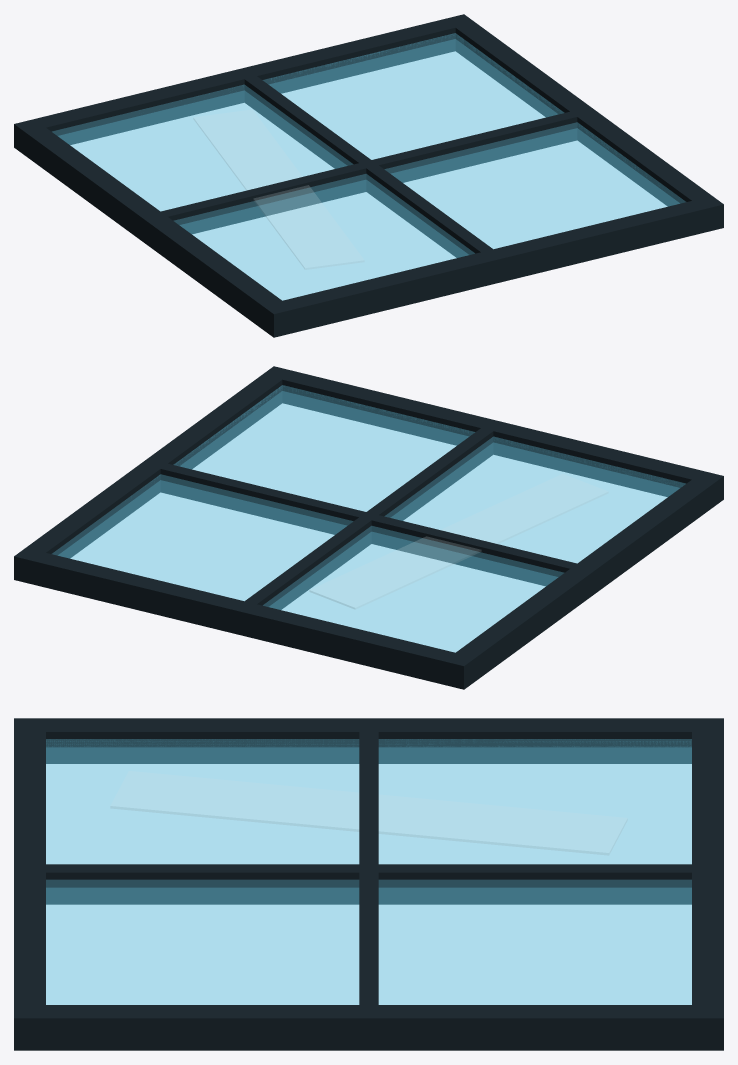
File: skylight_2x2.glb
3 views of the same model, one above another, from view 1: azimuth 30°, elevation 25°; view 2: azimuth 150°, elevation 25°; view 3: azimuth 270°, elevation 25° (orthographic). The views are drawn at different scales.
Parts seen in each view (by area): view 1: Glass_Surface, Frame_South, Frame_North, Mullion_Z_1, Frame_West, Frame_East, Reflection_Stripe, Mullion_X_1; view 2: Glass_Surface, Frame_North, Frame_South, Mullion_Z_1, Frame_West, Reflection_Stripe, Frame_East, Mullion_X_1; view 3: Glass_Surface, Frame_East, Frame_West, Mullion_X_1, Reflection_Stripe, Frame_North, Frame_South, Mullion_Z_1.
Boxes of the visible parts, x1=… form: Glass_Surface: x1=52, y1=33, x2=685, y2=300; Frame_South: x1=262, y1=196, x2=723, y2=337; Frame_North: x1=14, y1=14, x2=475, y2=155; Mullion_Z_1: x1=161, y1=111, x2=577, y2=234; Frame_West: x1=25, y1=127, x2=281, y2=328; Frame_East: x1=455, y1=22, x2=711, y2=206; Reflection_Stripe: x1=194, y1=110, x2=363, y2=269; Mullion_X_1: x1=244, y1=76, x2=492, y2=257; Glass_Surface: x1=52, y1=385, x2=685, y2=652; Frame_North: x1=14, y1=548, x2=475, y2=689; Frame_South: x1=262, y1=366, x2=723, y2=507; Mullion_Z_1: x1=160, y1=463, x2=576, y2=586; Frame_West: x1=456, y1=479, x2=712, y2=680; Reflection_Stripe: x1=310, y1=474, x2=607, y2=608; Frame_East: x1=26, y1=374, x2=282, y2=558; Mullion_X_1: x1=245, y1=428, x2=493, y2=609; Glass_Surface: x1=46, y1=739, x2=691, y2=1004; Frame_East: x1=46, y1=1005, x2=691, y2=1050; Frame_West: x1=46, y1=718, x2=691, y2=763; Mullion_X_1: x1=46, y1=864, x2=691, y2=904; Reflection_Stripe: x1=111, y1=771, x2=626, y2=854; Frame_North: x1=692, y1=718, x2=723, y2=1050; Frame_South: x1=14, y1=718, x2=45, y2=1050; Mullion_Z_1: x1=359, y1=732, x2=378, y2=1004.
Size of the model in its own units: 2 by 0.1 by 2.
